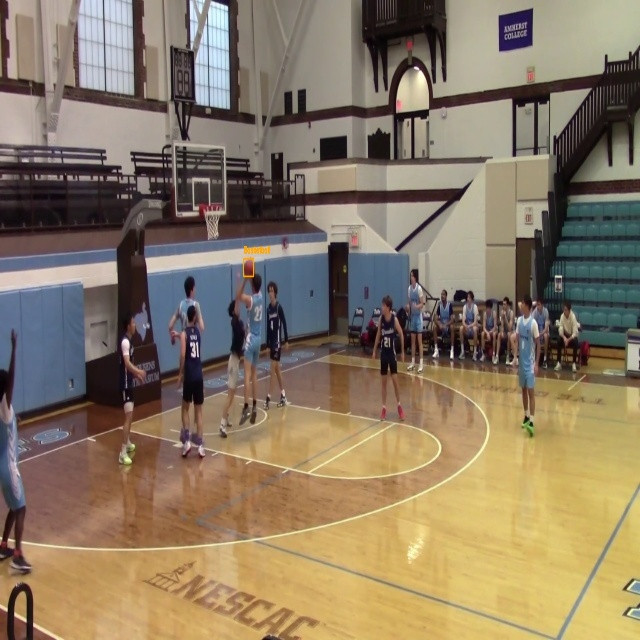Basketball: (244, 258, 254, 277)
